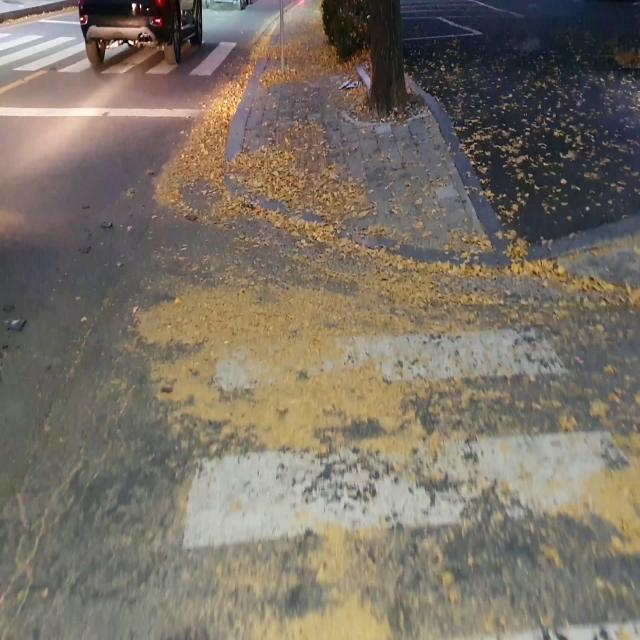crosswalk: (171, 325, 640, 640)
